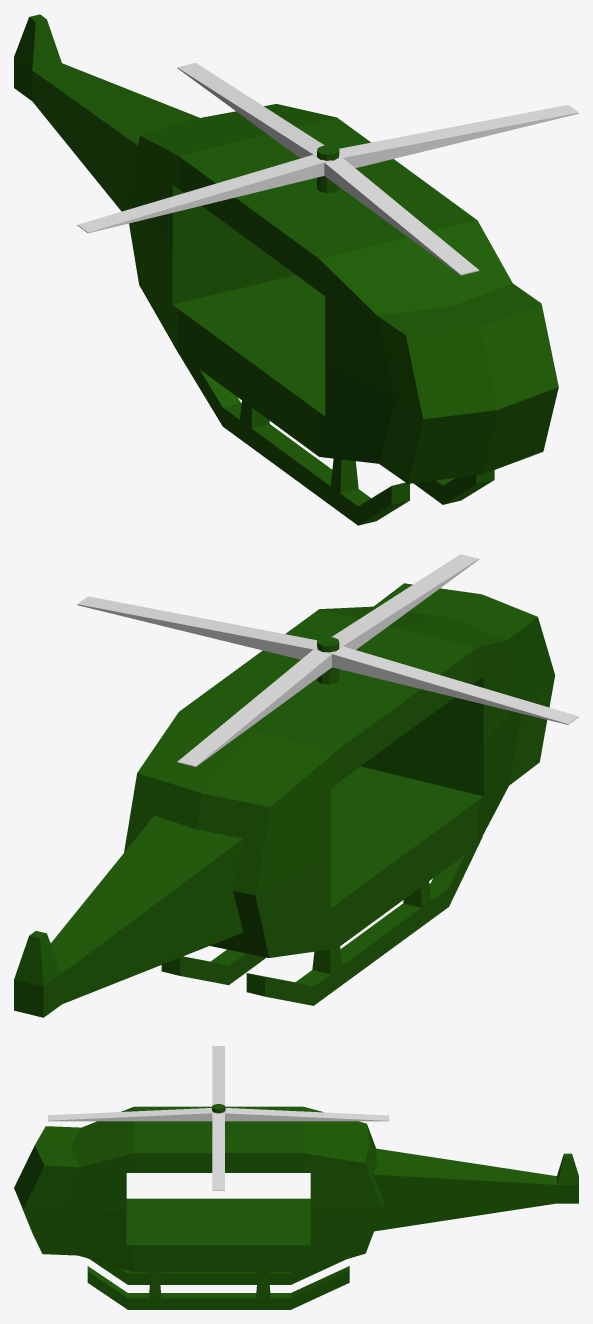
Rendered from Helicopter.fbx.
The picture shows the model from 3 angles, top to bottom: view 1: azimuth 30°, elevation 25°; view 2: azimuth 150°, elevation 25°; view 3: azimuth 270°, elevation 25°; orthographic projection. The views are drawn at different scales.
Parts seen in each view (by area): view 1: Cube, Cube.005, Cube.002, Cube.003, Cube.001, Cube.004; view 2: Cube, Cube.005, Cube.002, Cube.003, Cube.001, Cube.004, Cylinder; view 3: Cube, Cube.005, Cube.004, Cube.001, Cube.003, Cube.002.
Part boxes in pixels (x1,y1,x2,y2): Cube: (125,104,558,483); Cube.005: (14,14,199,211); Cube.002: (77,105,578,233); Cube.003: (179,355,409,525); Cube.001: (177,63,479,275); Cube.004: (414,470,494,504); Cube: (124,583,554,957); Cube.005: (14,815,243,1017); Cube.002: (77,596,578,724); Cube.003: (246,836,482,1005); Cube.001: (177,554,479,766); Cube.004: (161,949,265,985); Cylinder: (317,637,339,684); Cube: (14,1106,383,1272); Cube.005: (373,1148,578,1231); Cube.004: (87,1266,349,1309); Cube.001: (48,1108,389,1121); Cube.003: (90,1259,344,1284); Cube.002: (212,1046,224,1190).
Size of the model in its own units: 620 by 373 by 1027.
